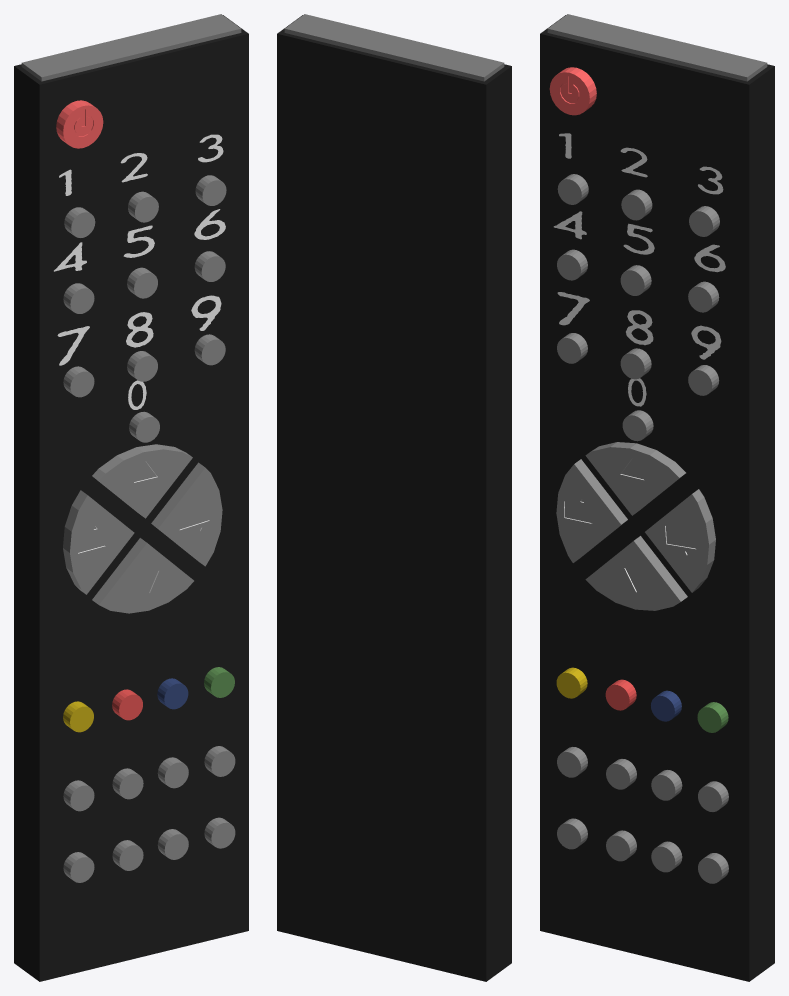
3 views of the same model, side by side, from view 1: azimuth 30°, elevation 25°; view 2: azimuth 150°, elevation 25°; view 3: azimuth 330°, elevation 25° (orthographic).
Visible parts, largest first — view 1: tv remote; view 2: tv remote; view 3: tv remote.
Boxes of the visible parts, x1,y1,x2,y2 form: tv remote: (14, 14, 248, 981); tv remote: (277, 14, 511, 981); tv remote: (540, 14, 774, 981).
Size of the model in its own units: 2.25 by 9.27 by 0.6063.
